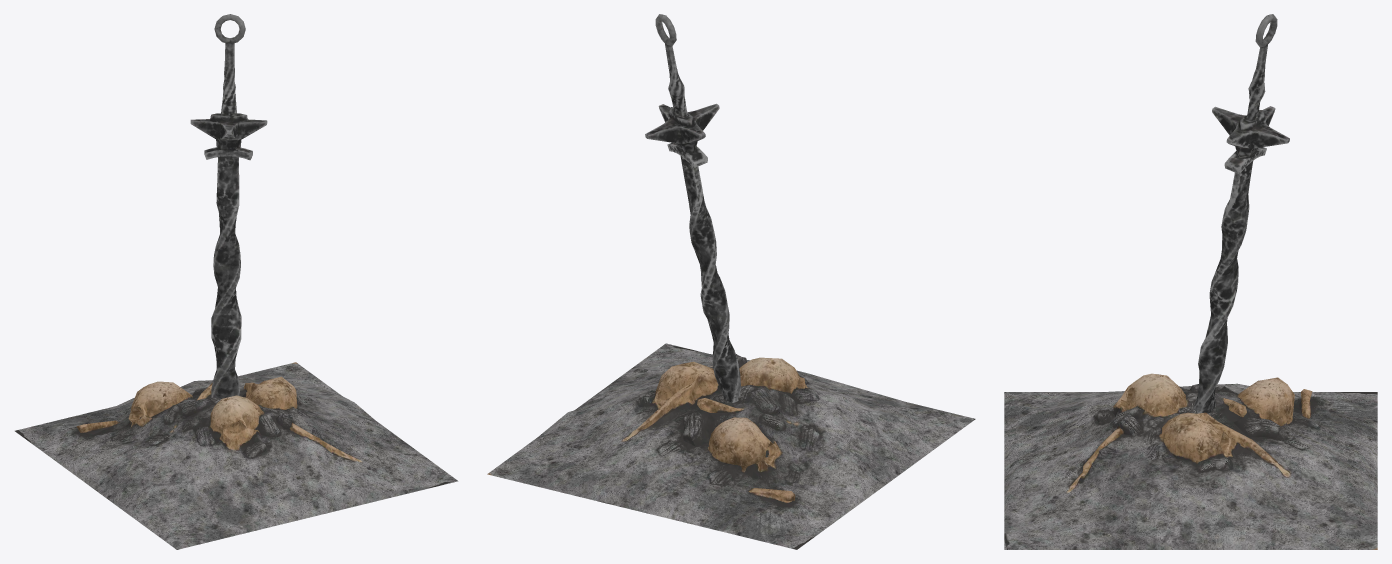
3 renders of one model, left to right at view 1: azimuth 30°, elevation 25°; view 2: azimuth 150°, elevation 25°; view 3: azimuth 270°, elevation 25°, orthographic. The views are drawn at different scales.
Visible parts, largest first — view 1: SM_Bonfire01_LOD0; view 2: SM_Bonfire01_LOD0; view 3: SM_Bonfire01_LOD0.
Boxes of the visible parts, x1,y1,x2,y2 form: SM_Bonfire01_LOD0: (15,14,458,549); SM_Bonfire01_LOD0: (487,14,975,549); SM_Bonfire01_LOD0: (1004,14,1377,549).
Size of the model in its own units: 0.8543 by 1.35 by 0.8543.
Materials: 1 (1 with a texture image).
